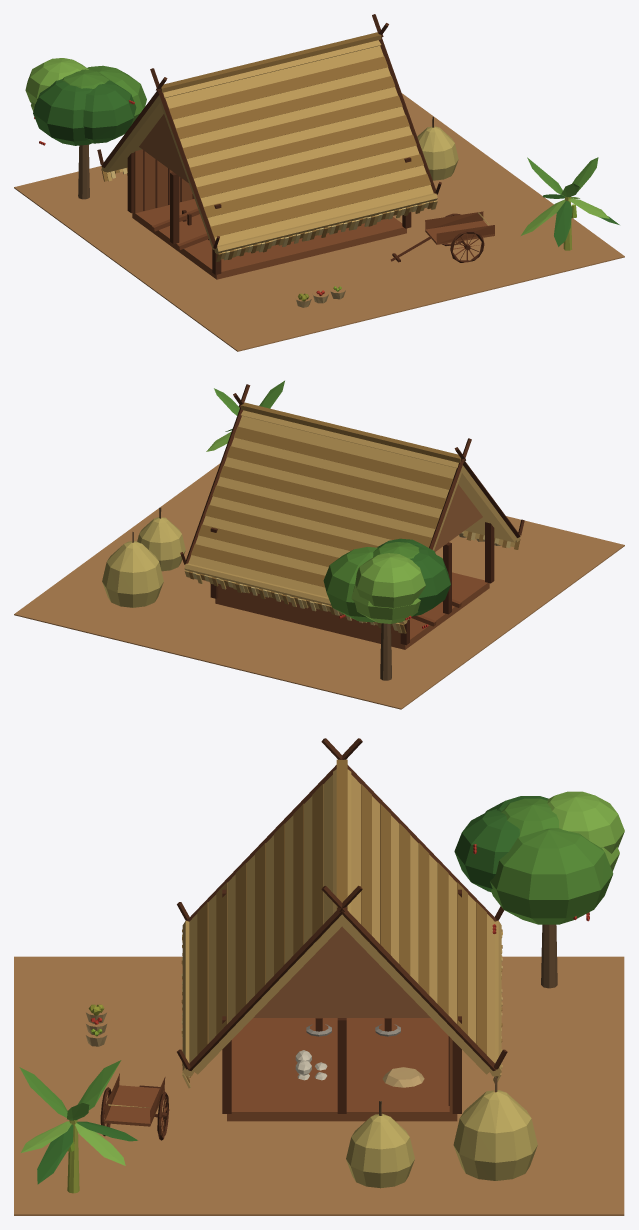
Rendered from factory_3.glb.
The picture shows the model from 3 angles, top to bottom: view 1: azimuth 30°, elevation 25°; view 2: azimuth 150°, elevation 25°; view 3: azimuth 270°, elevation 25°; orthographic projection. The views are drawn at different scales.
Visible parts, largest first — view 1: body; view 2: body; view 3: body.
Part boxes in pixels (x1,y1,x2,y2): body: [14, 14, 624, 351]; body: [14, 380, 624, 709]; body: [14, 738, 624, 1215].
Size of the model in its own units: 16.41 by 7.14 by 15.92.
